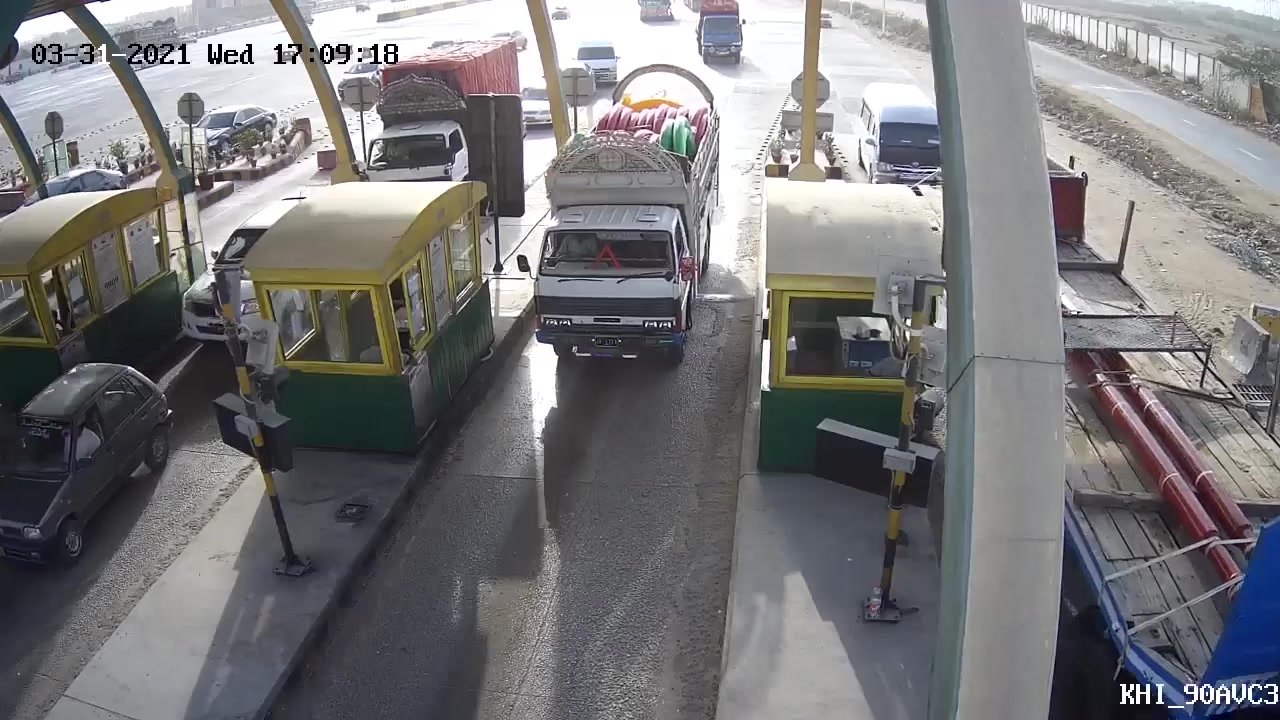F5: (500, 127, 701, 378)
